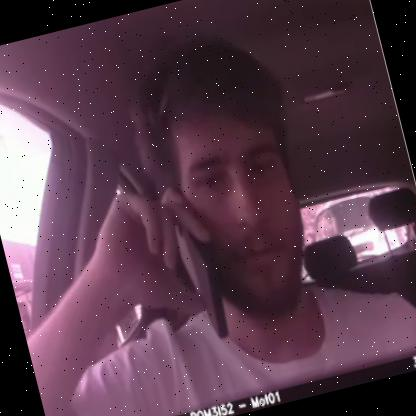phone: (150, 182, 250, 350)
